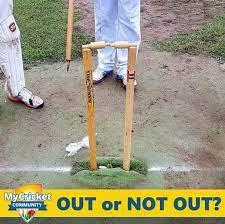stumps: (81, 43, 140, 173), (65, 0, 76, 72)
